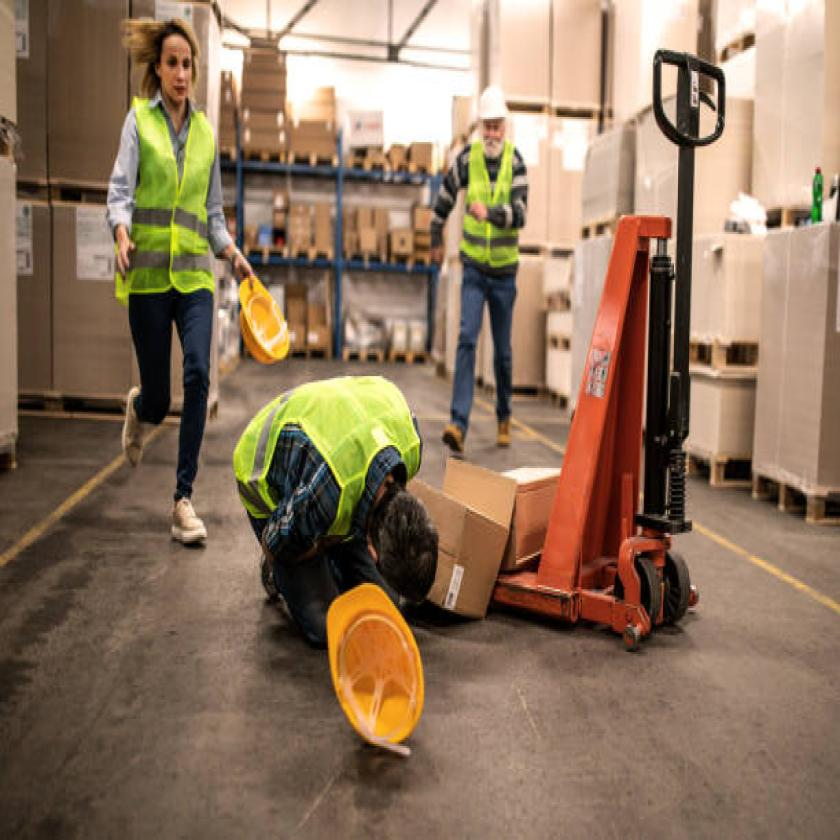Con_casco: (457, 65, 529, 189)
Sin_casco: (128, 0, 223, 125)
